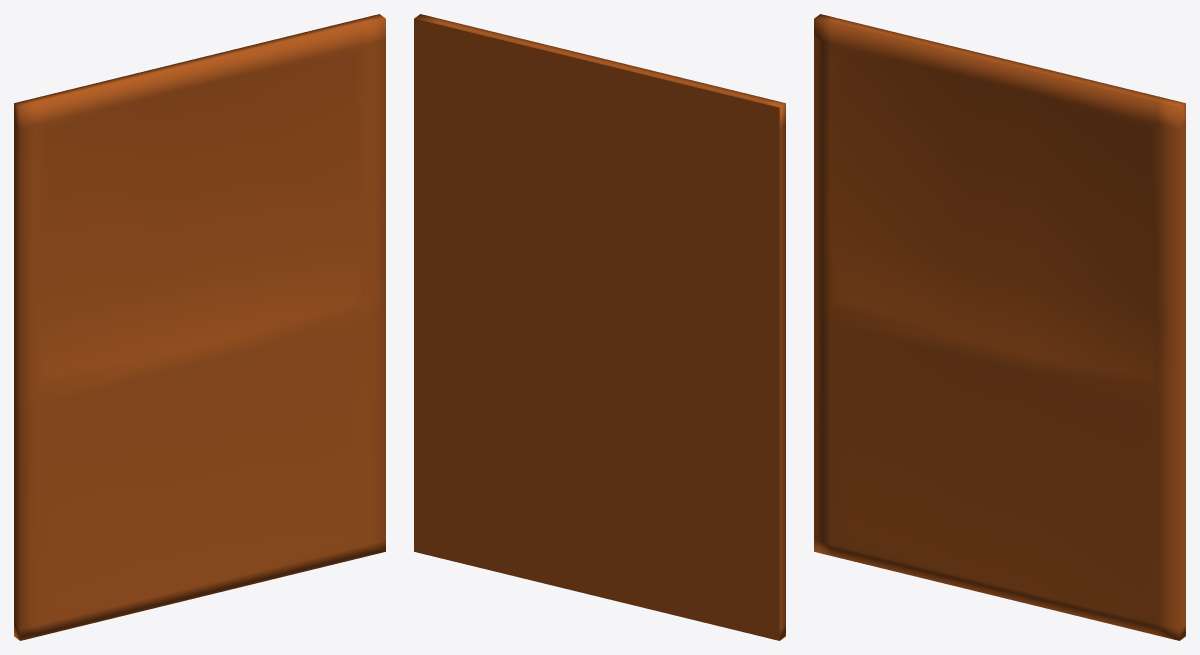
File: Low_Poly_Card.FBX
3 views of the same model, side by side, from view 1: azimuth 30°, elevation 25°; view 2: azimuth 150°, elevation 25°; view 3: azimuth 330°, elevation 25° (orthographic).
Visible parts, largest first — view 1: Box001; view 2: Box001; view 3: Box001.
Part boxes in pixels (left/top/right/bottom): Box001: left=14, top=14, right=385, bottom=640; Box001: left=414, top=14, right=785, bottom=640; Box001: left=814, top=14, right=1185, bottom=640.
Bounding box in the file's own units: 192 × 267 × 5.66.
